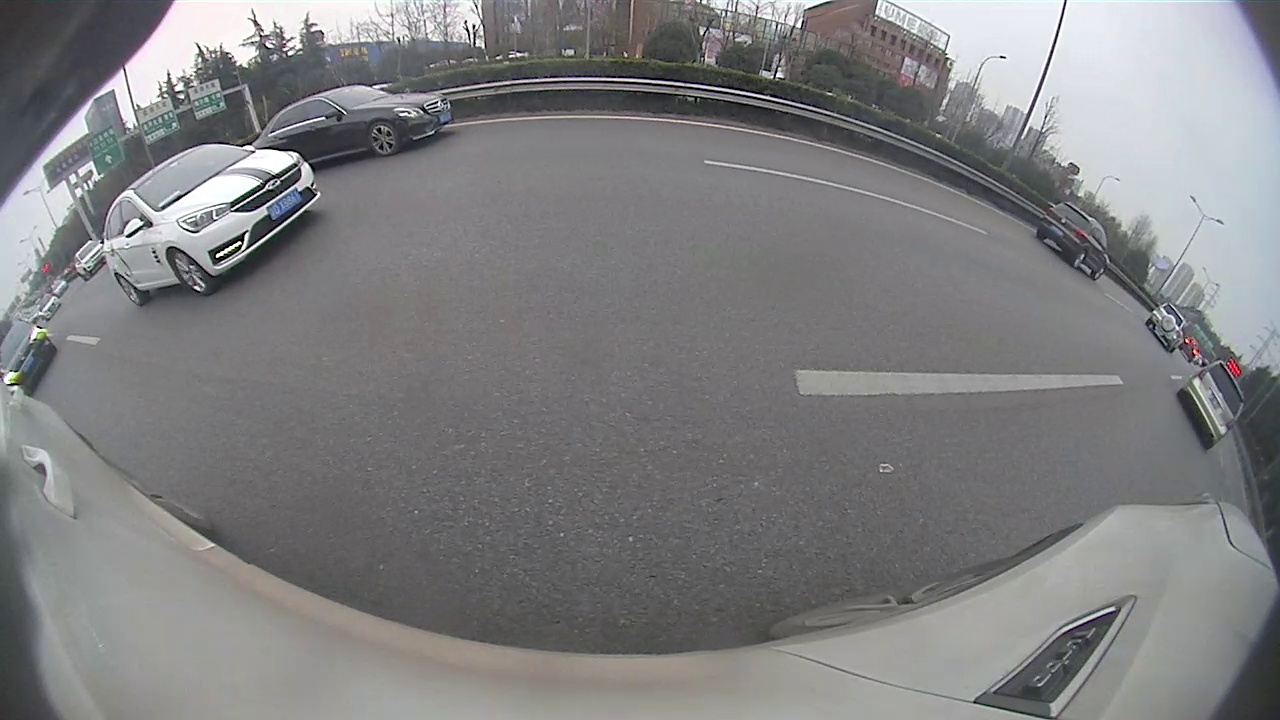car: (94, 138, 322, 306), (249, 83, 452, 165), (1037, 192, 1114, 287), (1176, 359, 1252, 452), (1, 320, 57, 401), (1146, 298, 1186, 353)
front: (171, 246, 222, 299), (366, 120, 400, 158), (1089, 265, 1106, 281)
rear: (113, 271, 151, 306), (1070, 251, 1087, 269)
